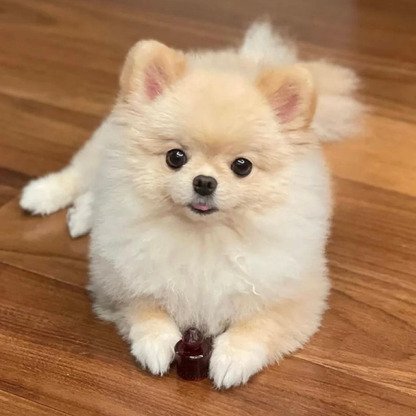Pomeranian: (43, 18, 367, 381)
